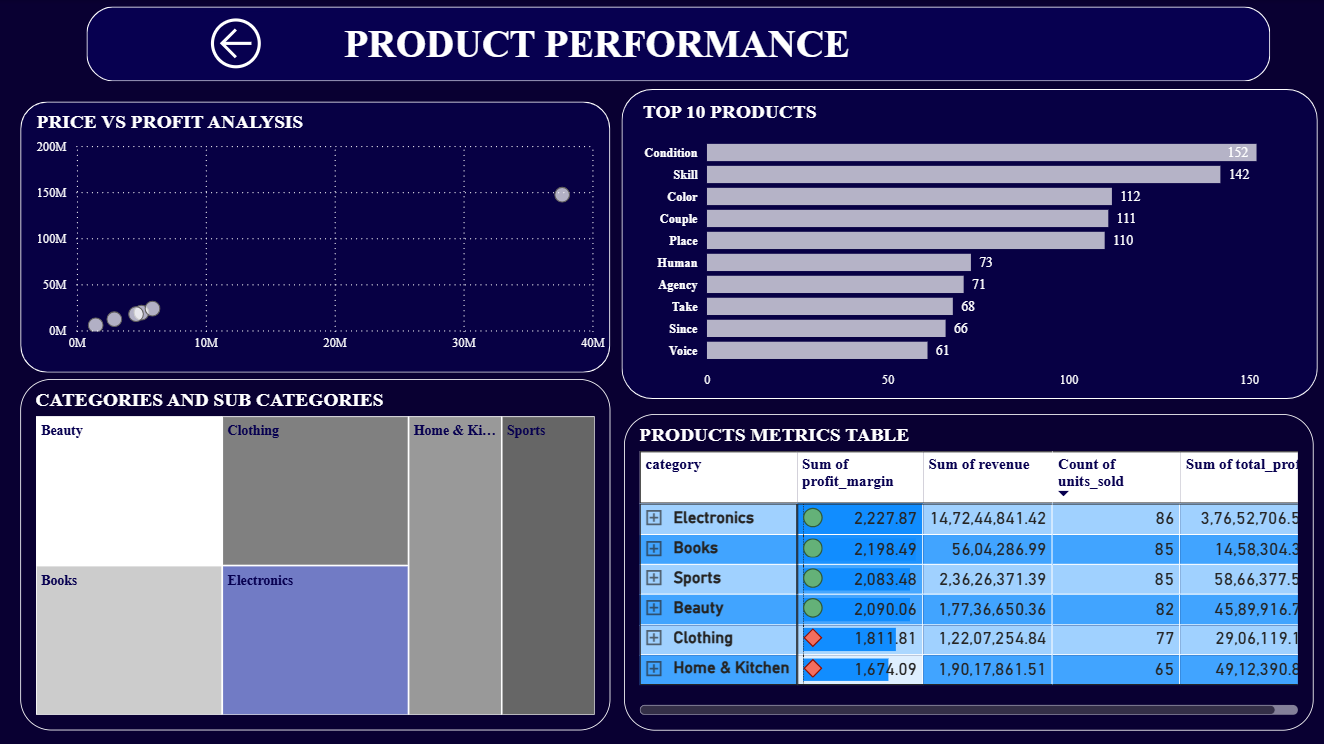

Layout of this report page (visuals, bound fields, positions):
{"tool":"powerbi","page":{"name":"Page 2","canvas":[1280,720],"ordinal":1},"visuals":[{"type":"shape","box":[20.5,98.9,569.4,261.8],"z":0,"group":"g2"},{"type":"treemap","title":"CATEGORIES AND SUB CATEGORIES","fields":{"Values":["CountNonNull(query4_category_performance.units_sold)"],"Group":["query8_product_profitability.category"]},"box":[20.5,366.8,569.4,339],"z":0},{"type":"shape","box":[600.8,86.9,672,299.2],"z":1000,"group":"g1"},{"type":"pivotTable","title":"PRODUCTS METRICS TABLE","fields":{"Rows":["query8_product_profitability.category","query8_product_profitability.product_name"],"Values":["Sum(query8_product_profitability.profit_margin)","Sum(query8_product_profitability.revenue)","CountNonNull(query8_product_profitability.units_sold)","Sum(query8_product_profitability.total_profit)"]},"box":[603.2,400.5,666,305.2],"z":1000},{"type":"shape","box":[84.5,7.2,1142.5,72.4],"z":2000},{"type":"clusteredBarChart","title":"TOP 10 PRODUCTS","fields":{"Category":["query1_top_products.product_name"],"Y":["Sum(query1_top_products.units_sold)"]},"box":[616.7,97.9,639.4,284.7],"z":2000,"group":"g1"},{"type":"textbox","box":[328.2,16.9,629.8,61.5],"z":3000},{"type":"actionButton","box":[197.9,12.1,62.7,61.5],"z":4000},{"type":"scatterChart","title":"PRICE VS PROFIT ANALYSIS","fields":{"X":["Sum(query4_category_performance.total_profit)"],"Y":["Sum(query4_category_performance.total_revenue)"],"Category":["query4_category_performance.units_sold"]},"box":[31.4,107.9,558.6,239.7],"z":4000,"group":"g2"},{"type":"group","id":"g1","title":"Group 1","box":[600.8,86.9,672,299.2],"z":5000},{"type":"group","id":"g2","title":"Group 2","box":[20.5,98.9,569.4,261.8],"z":6000}]}

Visuals, with their boxes in screenshot pixels (x1, y1, x2, y2), scaled from the page's 1280x720 canvas onto the 1324x744 screenshot:
shape: pyautogui.locateOnScreen(21, 102, 610, 373)
"CATEGORIES AND SUB CATEGORIES" treemap: pyautogui.locateOnScreen(21, 379, 610, 729)
shape: pyautogui.locateOnScreen(621, 90, 1317, 399)
"PRODUCTS METRICS TABLE" pivotTable: pyautogui.locateOnScreen(624, 414, 1313, 729)
shape: pyautogui.locateOnScreen(87, 7, 1269, 82)
"TOP 10 PRODUCTS" clusteredBarChart: pyautogui.locateOnScreen(638, 101, 1299, 395)
textbox: pyautogui.locateOnScreen(339, 17, 991, 81)
actionButton: pyautogui.locateOnScreen(205, 13, 270, 76)
"PRICE VS PROFIT ANALYSIS" scatterChart: pyautogui.locateOnScreen(32, 111, 610, 359)
"Group 1" group: pyautogui.locateOnScreen(621, 90, 1317, 399)
"Group 2" group: pyautogui.locateOnScreen(21, 102, 610, 373)
